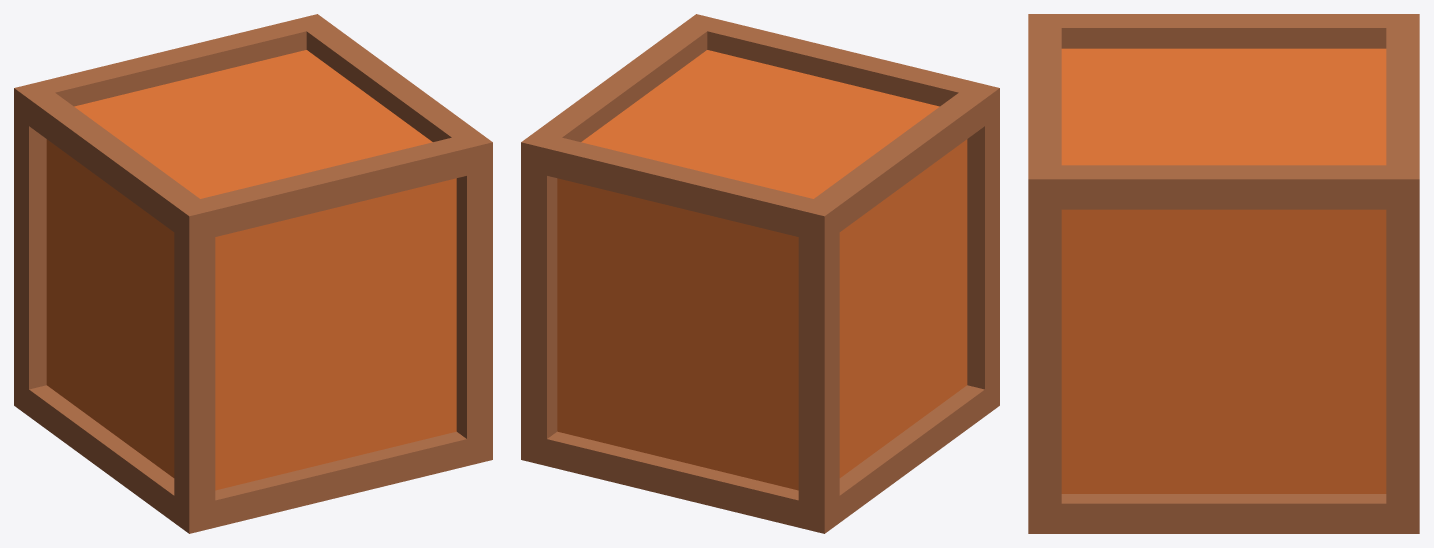
The model's file is crate.fbx.
The picture shows the model from 3 angles, left to right: view 1: azimuth 30°, elevation 25°; view 2: azimuth 150°, elevation 25°; view 3: azimuth 270°, elevation 25°; orthographic projection. The views are drawn at different scales.
Parts seen in each view (by area): view 1: Cube.000, Cube.001; view 2: Cube.000, Cube.001; view 3: Cube.000, Cube.001.
Part boxes in pixels (x1=…): Cube.000: x1=46, y1=50, x2=456, y2=490; Cube.001: x1=14, y1=14, x2=492, y2=533; Cube.000: x1=557, y1=50, x2=967, y2=490; Cube.001: x1=521, y1=14, x2=999, y2=533; Cube.000: x1=1061, y1=48, x2=1386, y2=493; Cube.001: x1=1028, y1=14, x2=1419, y2=533.
Bounding box in the file's own units: 102 × 102 × 102.
